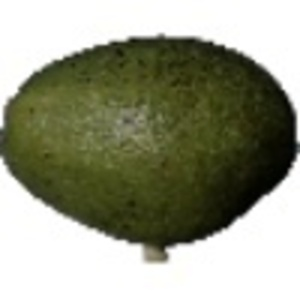abacate: (1, 29, 297, 249)
